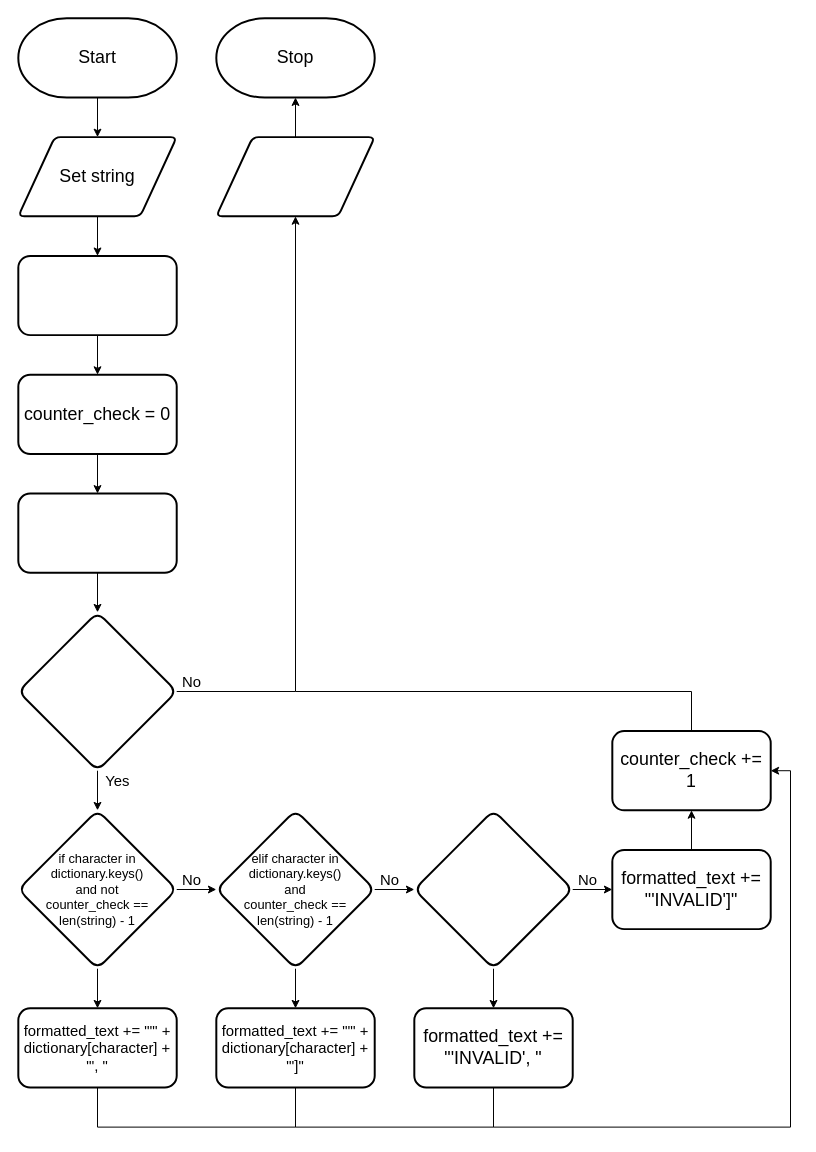
Image size: 816x1152. Some labels were removed from this diagram. The shapes that lost their labels are listed below. From the top down, each one's box as (x1, y1, x2, y2) in pixels, then its label:
(215, 136, 375, 217): return formatted_text
(17, 254, 177, 336): Set dictionary to a dictionary of the hex values for characters
(17, 492, 177, 573): formatted_text = "["
(17, 611, 177, 771): for character in string
(413, 809, 573, 969): elif not counter_check == len(string) - 1
